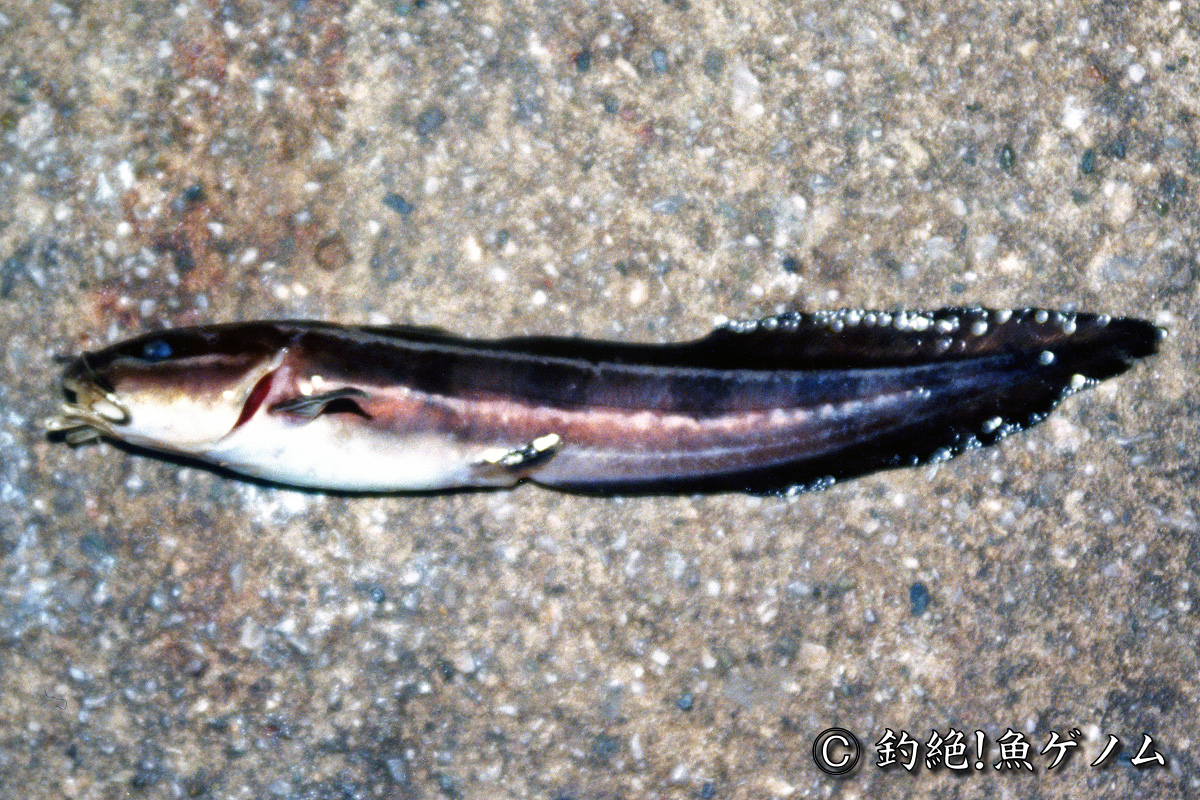gonzui: (49, 272, 1172, 517)
